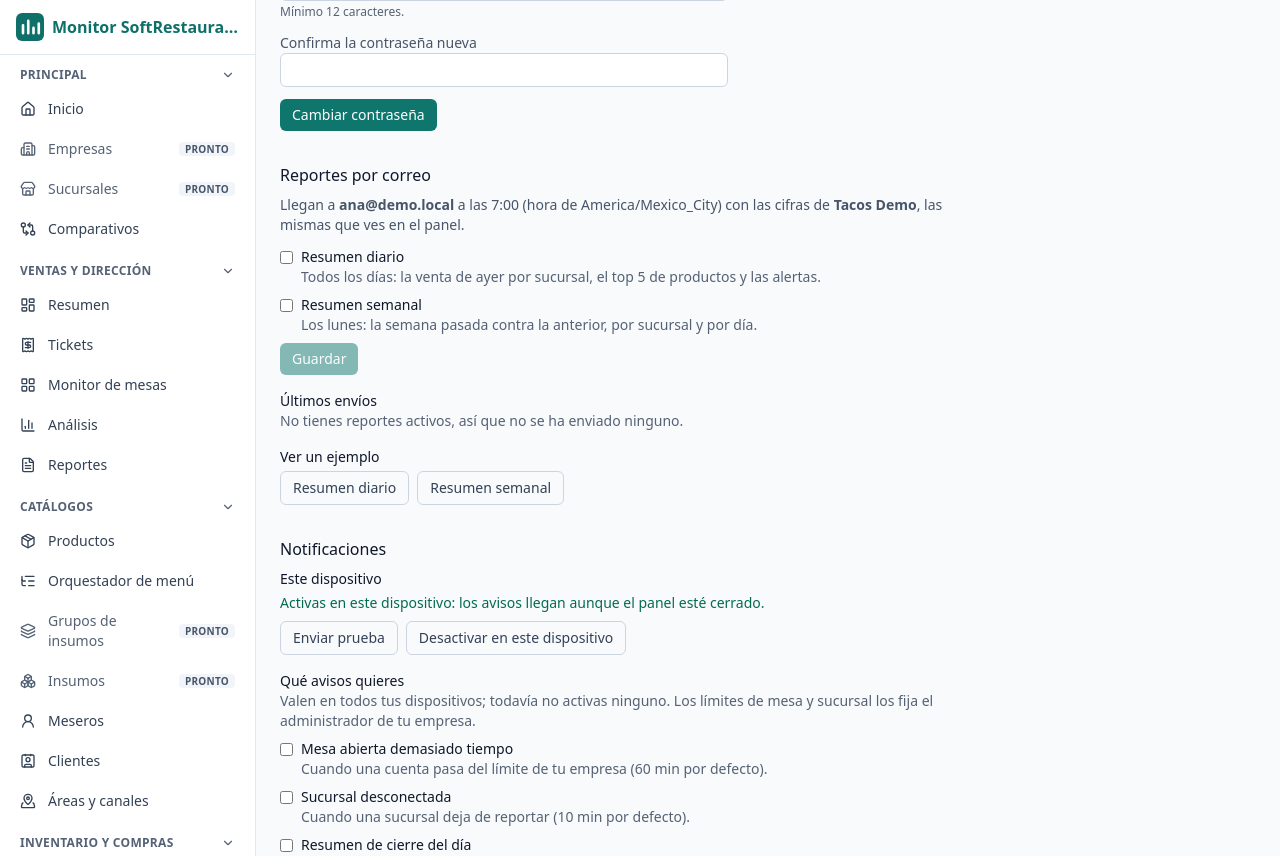
Test: Mi cuenta → Notificaciones: este dispositivo › prueba que no llega a nadie: dice qué hacer
(page scrolled)
Click the button "Enviar prueba": (339, 638) x1=280 y1=621 x2=398 y2=655
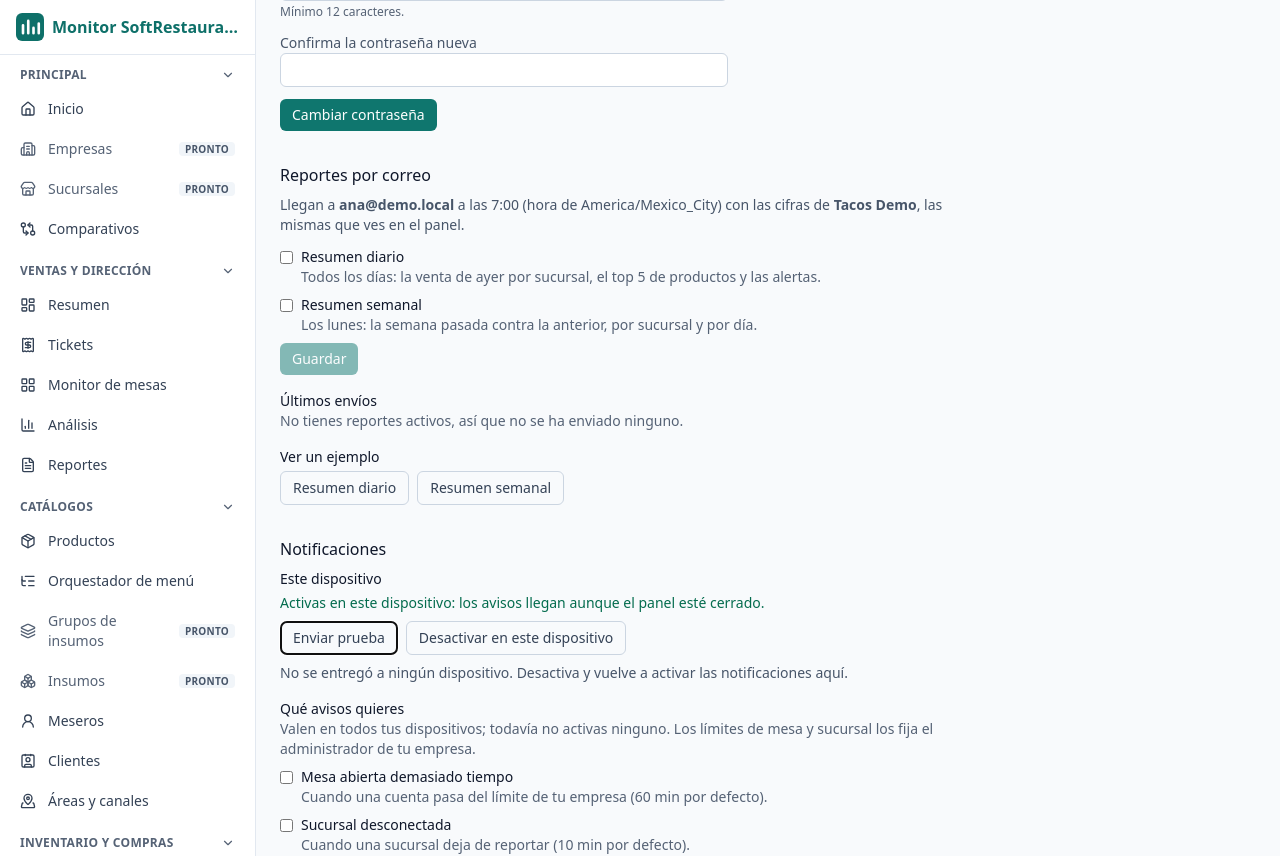
Now the text "No se entregó a ningún dispositivo" is shown, box x1=280 y1=663 x2=848 y2=682
